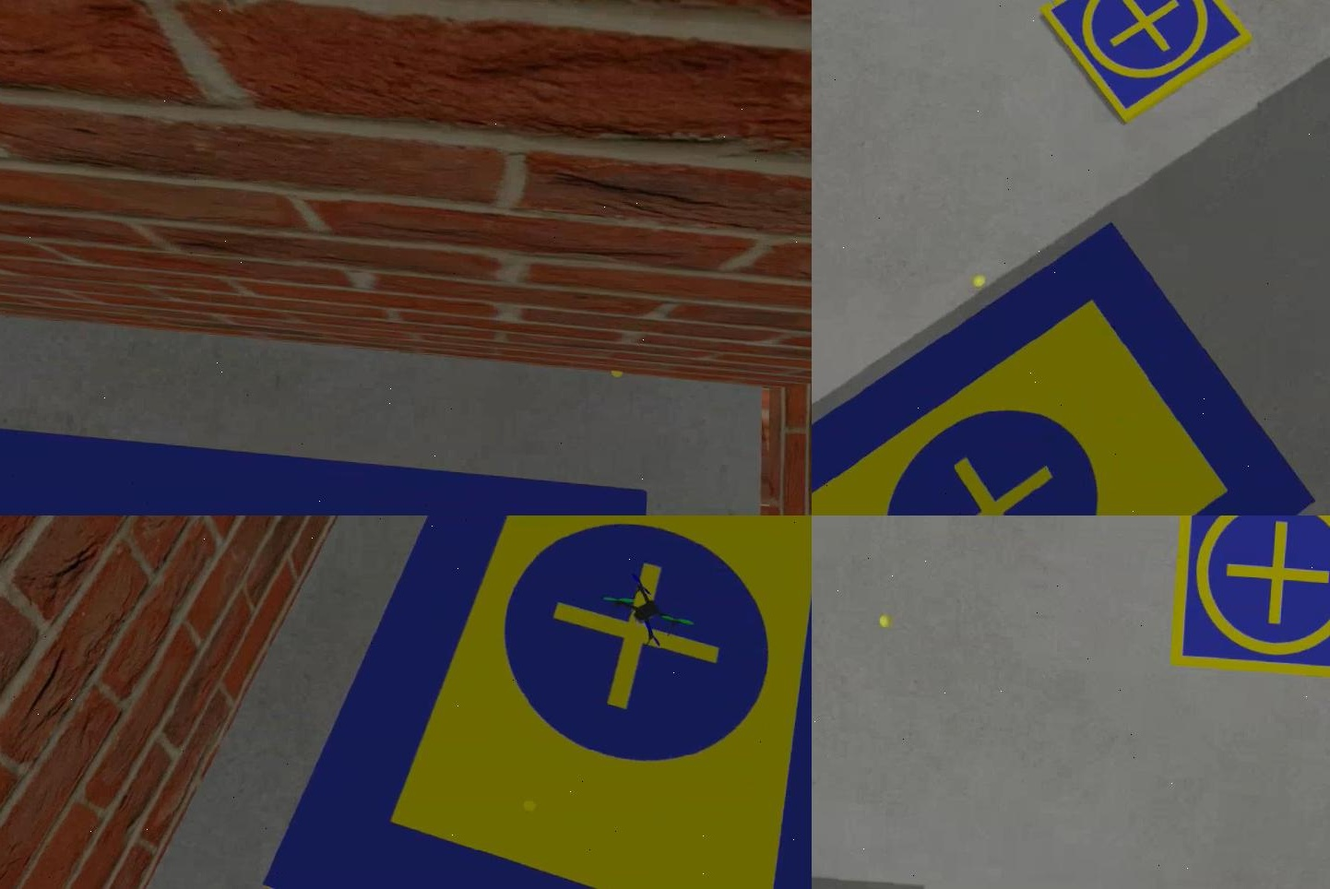large_base: (251, 516, 810, 889), (810, 197, 1328, 516), (0, 417, 648, 516)
small_base: (1033, 1, 1253, 127), (1164, 516, 1328, 681)
